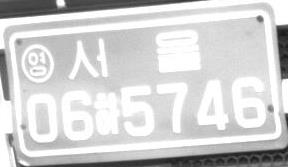0: (26, 92, 58, 143)
4: (196, 78, 229, 130)
5: (120, 83, 155, 137)
6: (230, 76, 267, 129), (60, 90, 94, 141)
7: (156, 82, 187, 133)
서울_D: (67, 28, 202, 81)
영: (20, 43, 55, 83)
하: (94, 91, 120, 136)
